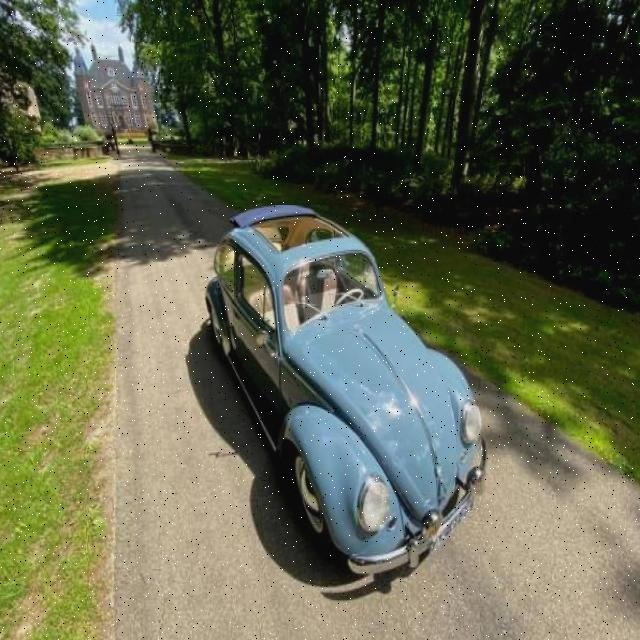car: (200, 207, 492, 566)
